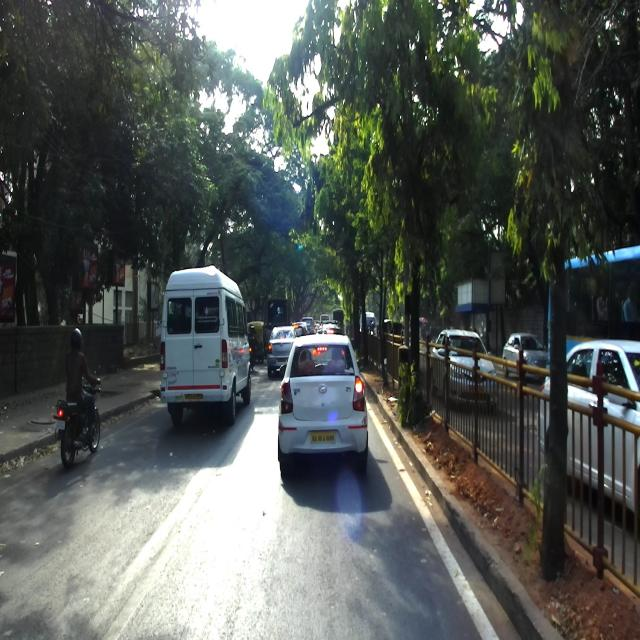Car: (502, 332, 547, 382), (315, 326, 346, 336), (290, 321, 309, 336), (301, 316, 316, 334), (313, 321, 317, 334)
Car_Maruti-Suzuki: (537, 338, 640, 514)
Car_Toyota: (277, 333, 368, 475), (431, 328, 499, 413), (267, 326, 297, 378)
autorickshaw: (247, 320, 264, 362), (382, 318, 403, 347)
bus: (319, 313, 331, 325)
mini-bus: (160, 264, 254, 426)
motorcycle: (248, 341, 257, 370)
motorcycle_Yamaha: (52, 365, 102, 470)
